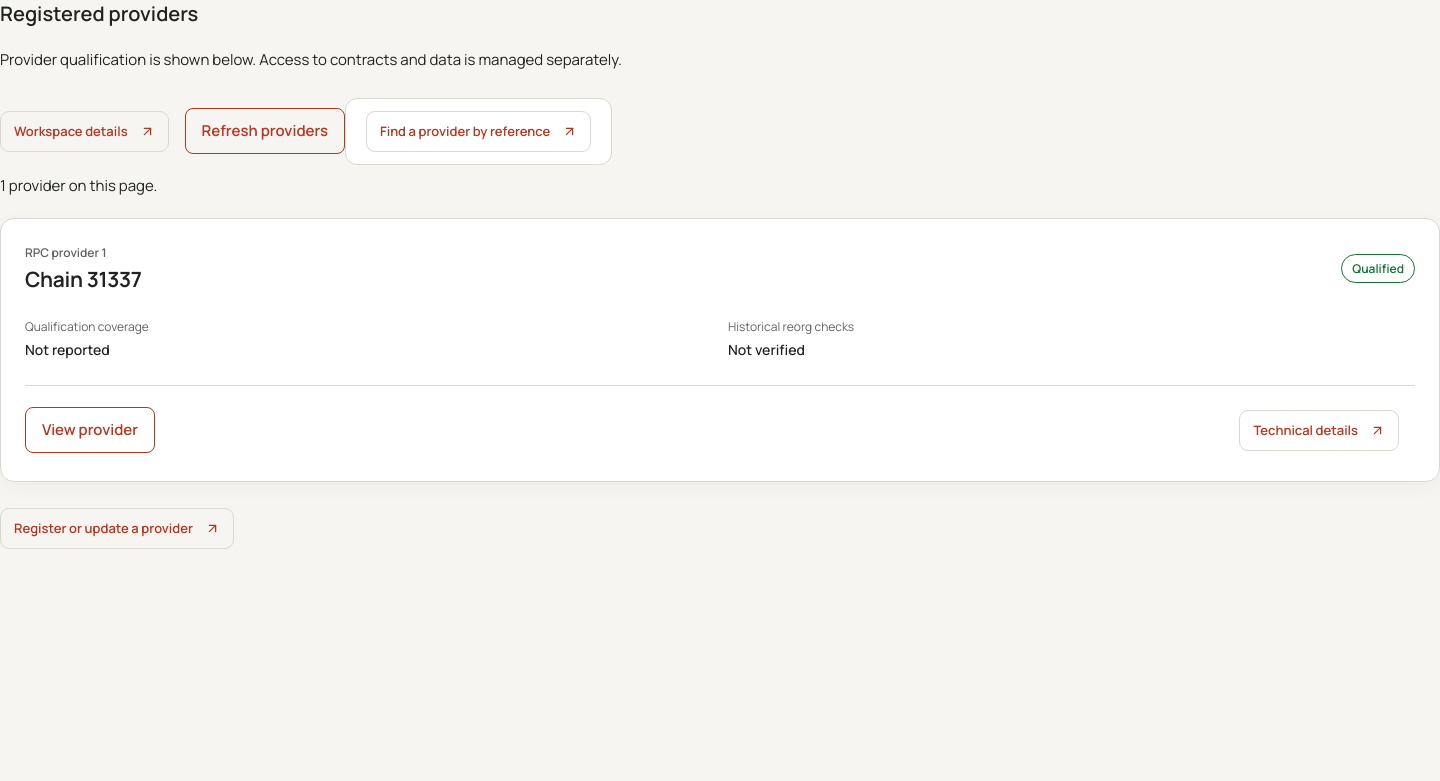
Scenario: refreshes the native provider directory only for a confirmed effect in the current workspace
Expected: the heading "Chain 31337" is shown, [25,266,142,294]
Click the button "Register or update a provider" at coordinates (117, 528), box [0,508,234,549]
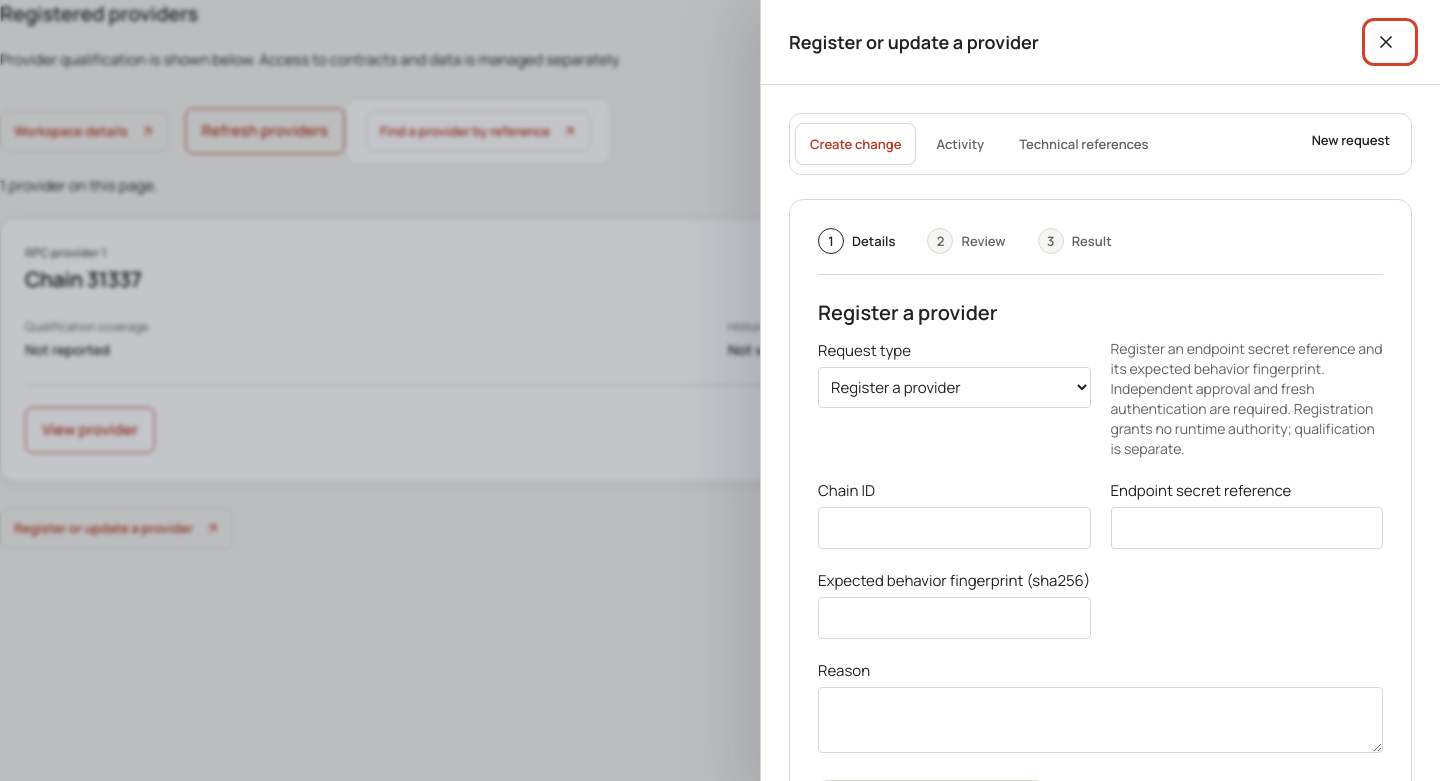
Click the button "Activity" at coordinates (960, 144), box [921,123,999,165]
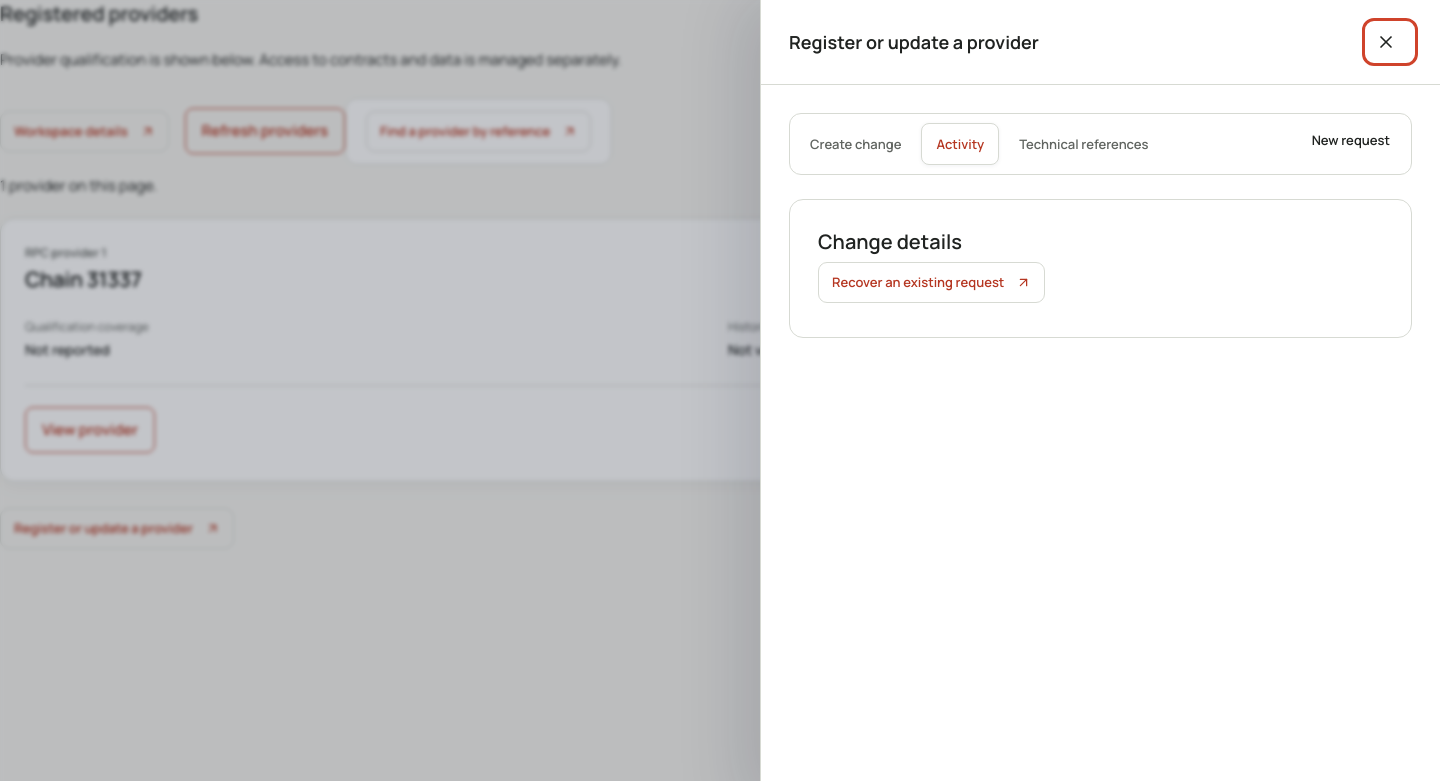
Click the button "Recover an existing request" at coordinates (932, 282), box [818,262,1045,303]
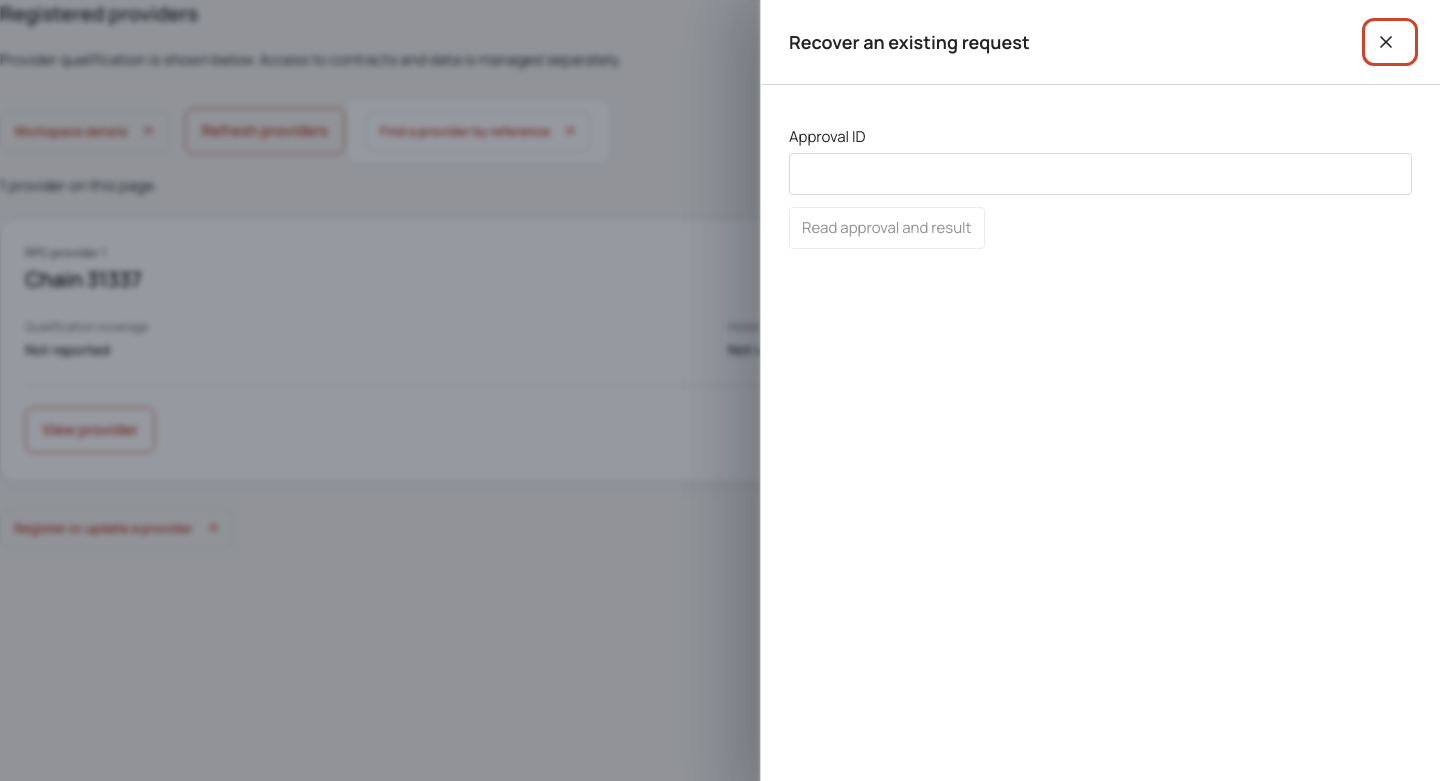
Type "018f0000-0000-7000-8000-000000000301" into the field labelled "Approval ID" at coordinates (1100, 174), box [789,153,1412,195]
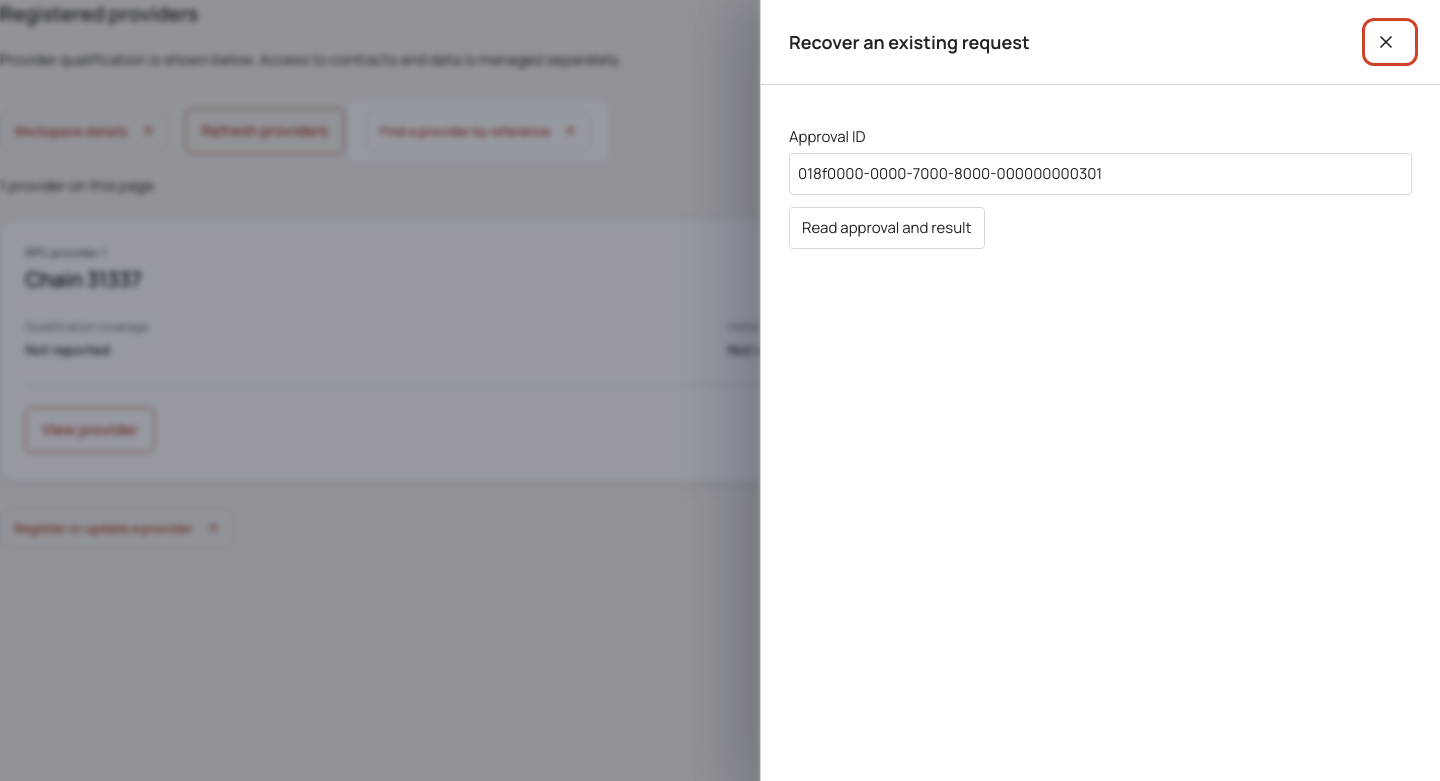
Click the button "Read approval and result" at coordinates (887, 228), box [789,207,985,249]
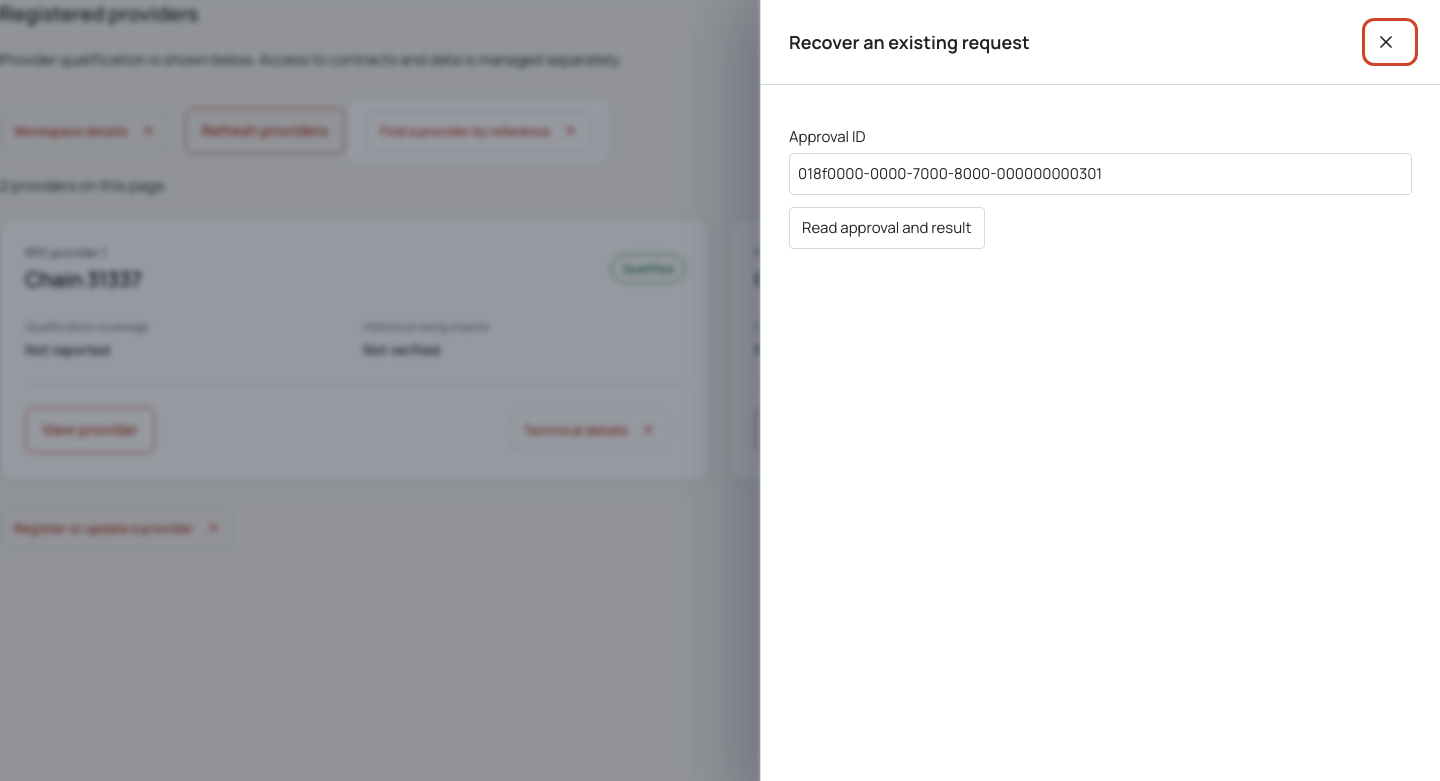
Expected: the heading "Chain 31337" is shown, [25,266,142,294]
Now the heading "Chain 92870" is shown, box [755,266,878,294]
